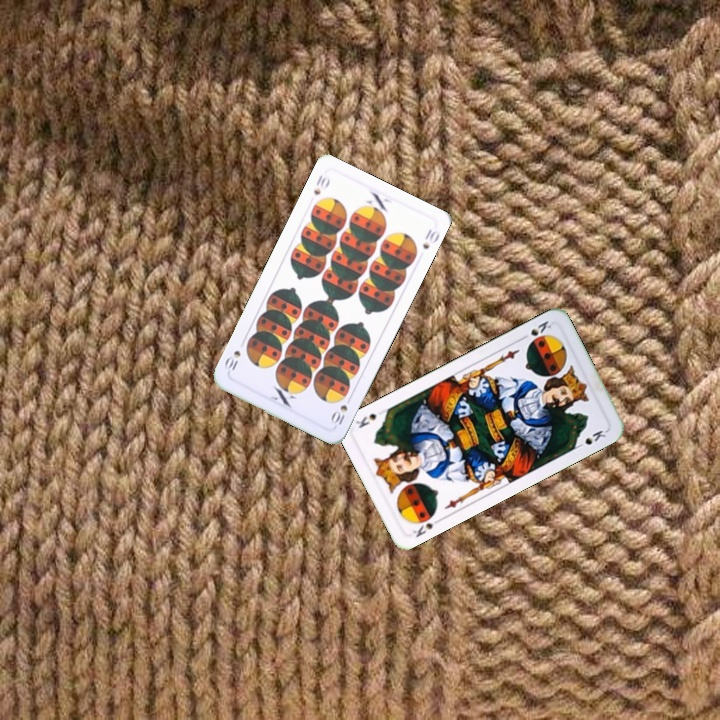S10: (327, 400, 350, 428), (309, 171, 332, 198)
SK: (517, 316, 554, 343), (409, 514, 444, 540)
